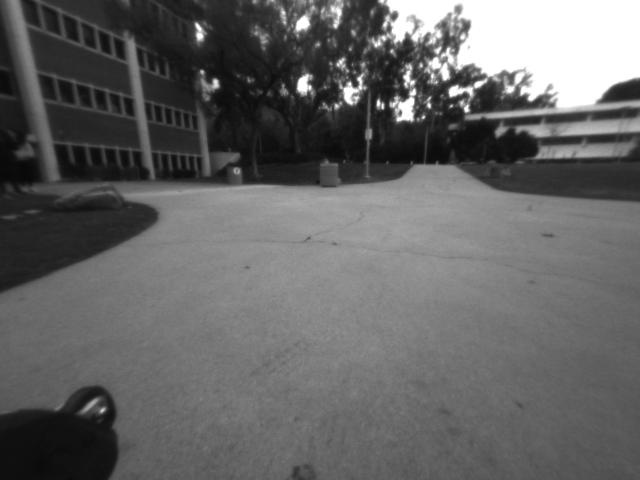trashcan: (321, 162, 339, 186), (227, 165, 246, 186)
